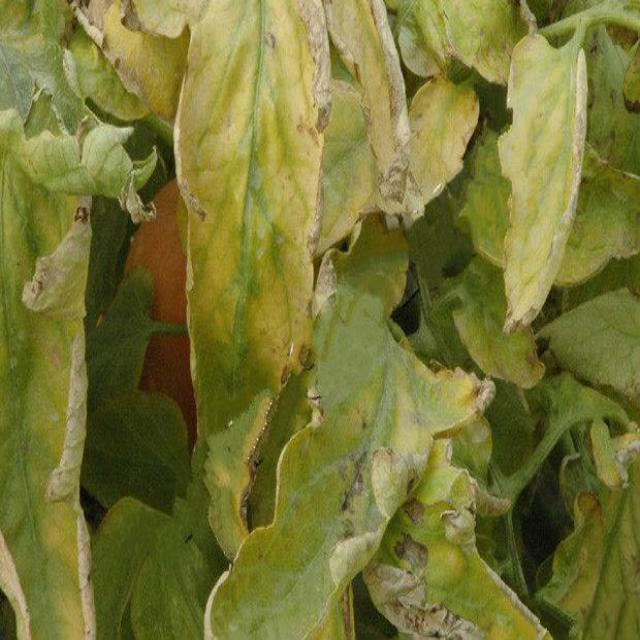Leaf_Mold: (1, 1, 640, 640)
